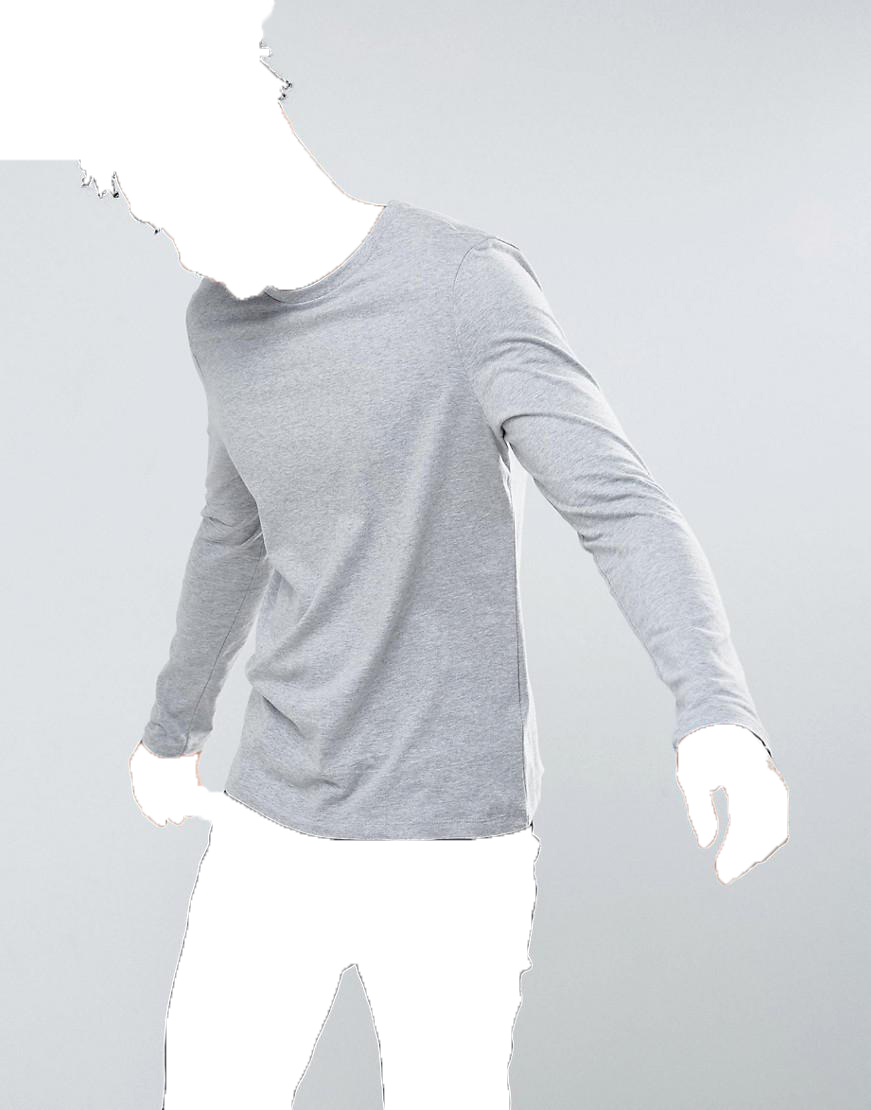teeshirt: (132, 208, 774, 827)
